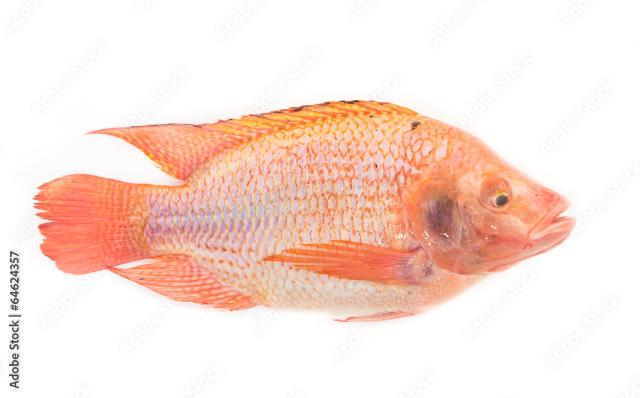Mulut: (503, 177, 602, 252)
Sirip Anal: (94, 246, 274, 334)
Sirip Dada: (248, 226, 442, 300)
Sirip Ekor: (27, 162, 157, 284)
Sirip Perut: (323, 302, 427, 336)
Sirip Punggung: (77, 90, 425, 186)
